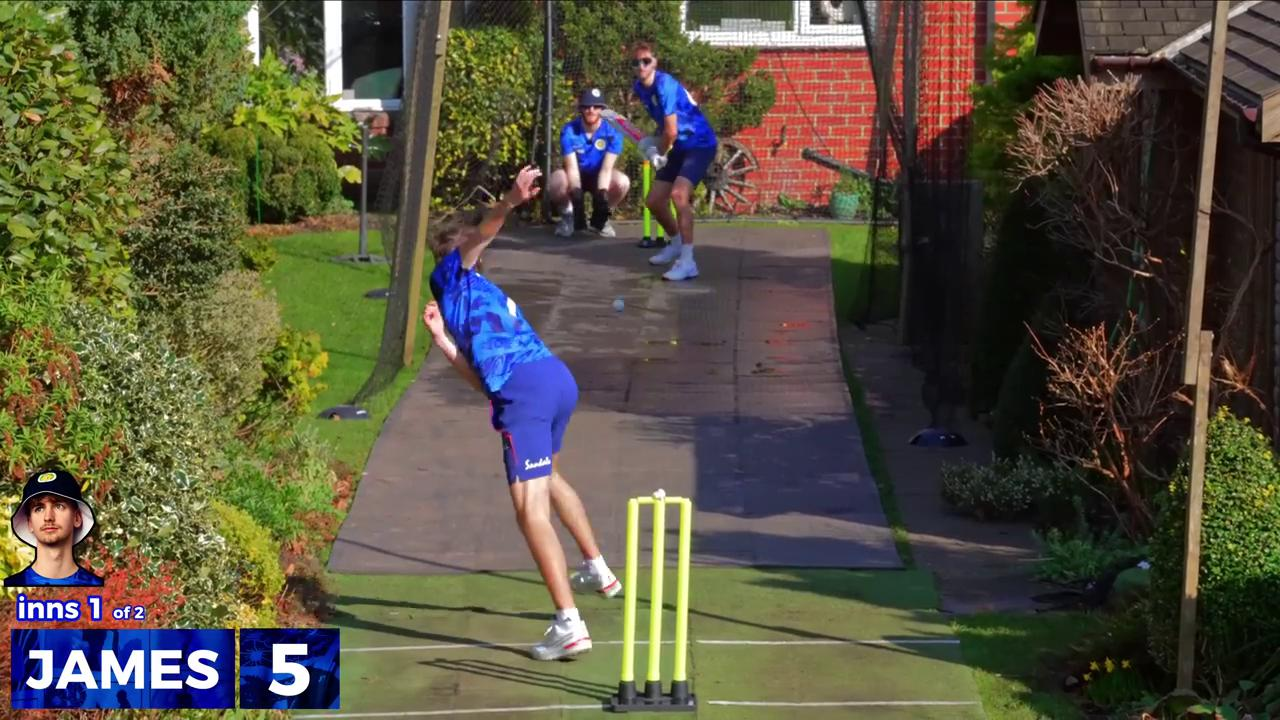ball: (600, 286, 635, 317)
